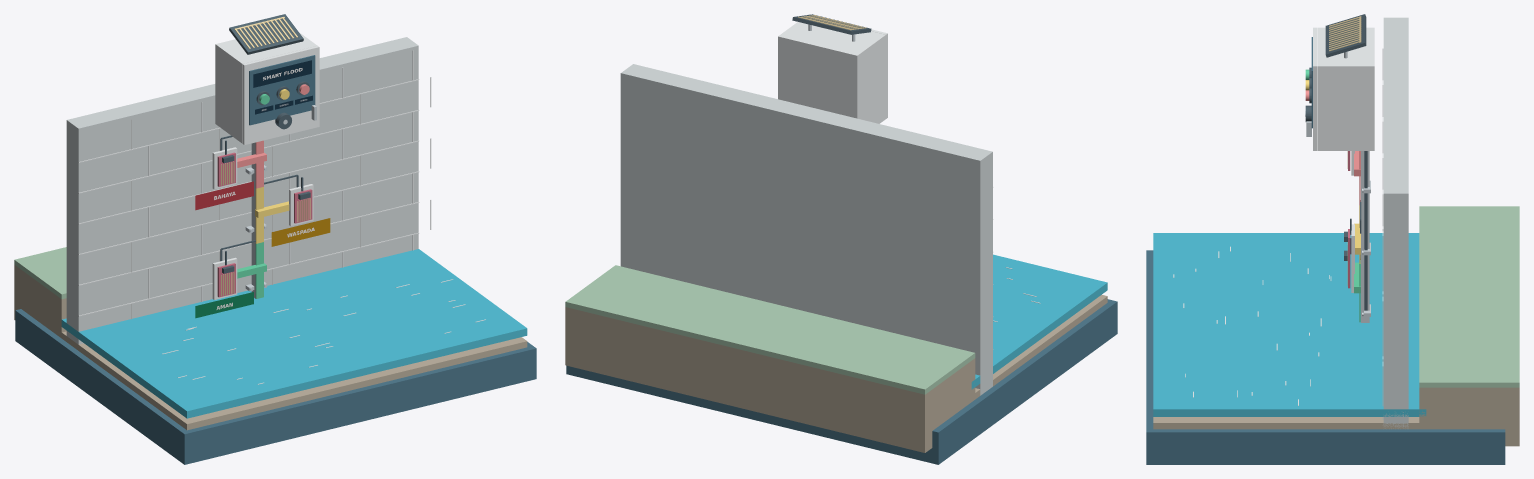
File: smart_flood.glb
3 renders of one model, left to right at view 1: azimuth 30°, elevation 25°; view 2: azimuth 150°, elevation 25°; view 3: azimuth 270°, elevation 25°, orthographic. The views are drawn at different scales.
Parts seen in each view (by area): view 1: Concrete_Wall, Water_Surface, Base, Riverbed, Door, Enclosure_Side, Door_Inset, Bank, Grass, Rain_PCB, Label_WASPADA, Label_BAHAYA (+6 smaller); view 2: Concrete_Wall, Bank, Grass, Base, Water_Surface, Enclosure_Back, Enclosure_Side, Enclosure_Top, Riverbed, Rain_PCB; view 3: Water_Surface, Grass, Base, Concrete_Wall, Enclosure_Side, Bank, Riverbed, Mast, Enclosure_Top, Rain_PCB, Enclosure_Back, Cable_Trunk (+1 smaller).
Part boxes in pixels (x1,y1,x2,y2): Concrete_Wall: (66,37,418,344); Water_Surface: (61,249,527,418); Base: (15,309,536,464); Riverbed: (61,331,527,430); Door: (242,46,319,144); Enclosure_Side: (215,44,246,143); Door_Inset: (249,55,315,125); Bank: (14,265,66,338); Grass: (14,247,66,299); Rain_PCB: (229,14,303,54); Label_WASPADA: (271,218,330,246); Label_BAHAYA: (195,181,253,210); Concrete_Wall: (620,64,992,395); Bank: (565,307,975,452); Grass: (565,265,975,394); Base: (566,299,1117,464); Water_Surface: (971,254,1107,389); Enclosure_Back: (778,34,860,118); Enclosure_Side: (852,34,885,123); Enclosure_Top: (779,22,885,60); Riverbed: (971,295,1107,401); Rain_PCB: (792,14,871,34); Water_Surface: (1153,233,1426,416); Grass: (1419,206,1519,387); Base: (1146,250,1505,464); Concrete_Wall: (1383,17,1408,428); Enclosure_Side: (1317,64,1374,150); Bank: (1419,387,1519,446); Riverbed: (1153,417,1426,429); Mast: (1361,151,1369,322); Enclosure_Top: (1317,27,1374,71); Rain_PCB: (1325,14,1366,57); Enclosure_Back: (1369,27,1374,150); Cable_Trunk: (1364,151,1367,310).
Size of the model in its own units: 6.11 by 5.3 by 5.2.
22 materials, 8 textured.
